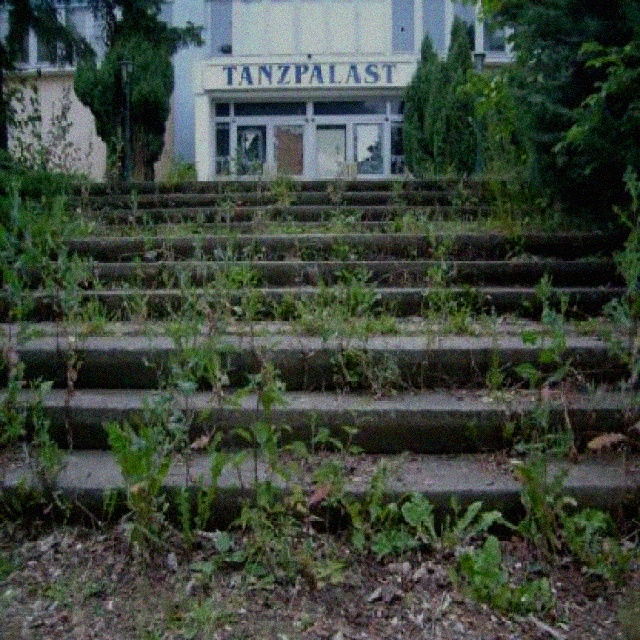stair: (0, 178, 640, 534)
